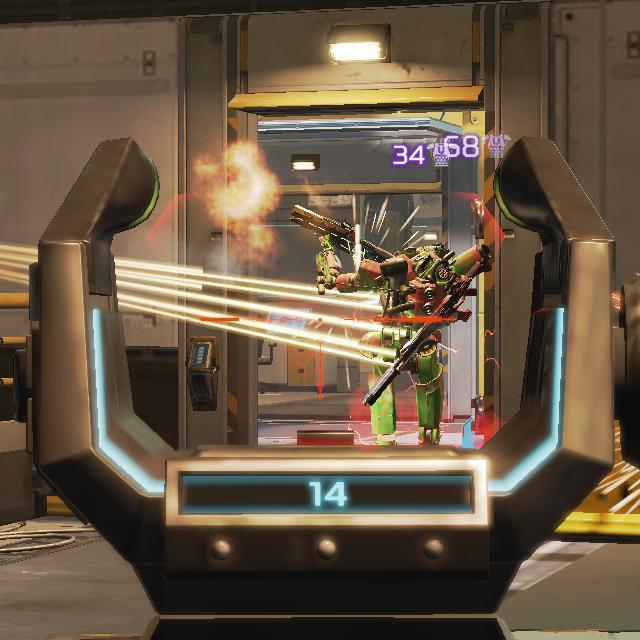avatar: (358, 238, 458, 446)
